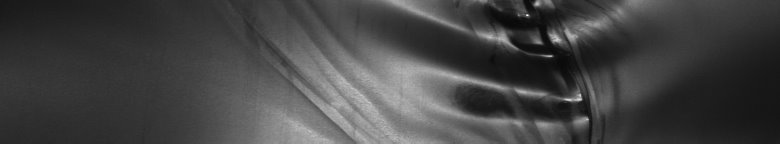ke: (391, 4, 605, 136)
